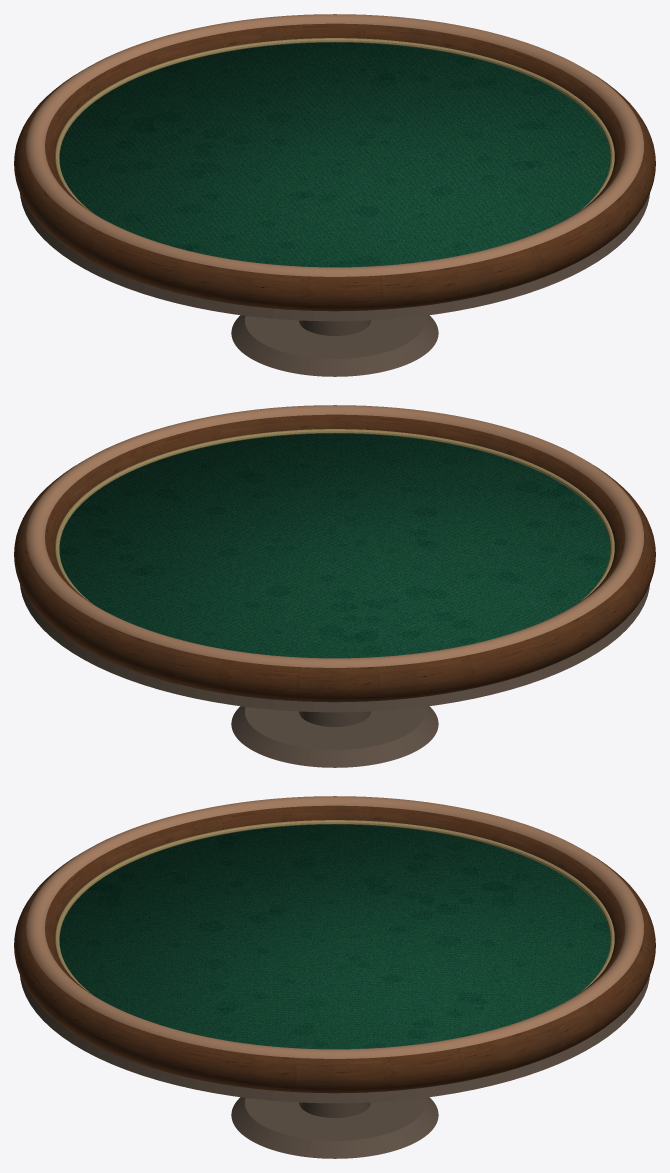
The model's file is table.glb.
3 renders of one model, top to bottom at view 1: azimuth 30°, elevation 25°; view 2: azimuth 150°, elevation 25°; view 3: azimuth 270°, elevation 25°, orthographic.
Parts seen in each view (by area): view 1: felt_top, rail_wood, rail_leather, foot, body, trim, post; view 2: felt_top, rail_wood, rail_leather, foot, body, trim, post; view 3: felt_top, rail_wood, rail_leather, foot, body, trim, post.
Boxes of the visible parts, x1,y1,x2,y2 form: felt_top: [59, 42, 610, 267]; rail_wood: [14, 23, 655, 311]; rail_leather: [26, 14, 643, 276]; foot: [231, 315, 438, 376]; body: [20, 193, 649, 321]; trim: [55, 38, 614, 212]; post: [299, 320, 370, 335]; felt_top: [59, 433, 610, 658]; rail_wood: [14, 414, 655, 702]; rail_leather: [26, 405, 643, 667]; foot: [231, 706, 438, 767]; body: [20, 584, 649, 712]; trim: [55, 429, 614, 603]; post: [299, 711, 370, 726]; felt_top: [59, 824, 610, 1049]; rail_wood: [14, 805, 655, 1093]; rail_leather: [26, 796, 643, 1058]; foot: [231, 1097, 438, 1158]; body: [20, 975, 649, 1103]; trim: [55, 820, 614, 994]; post: [299, 1102, 370, 1117].
Bounding box in the file's own units: 2.85 × 0.937 × 2.85.
5 materials, 2 textured.
